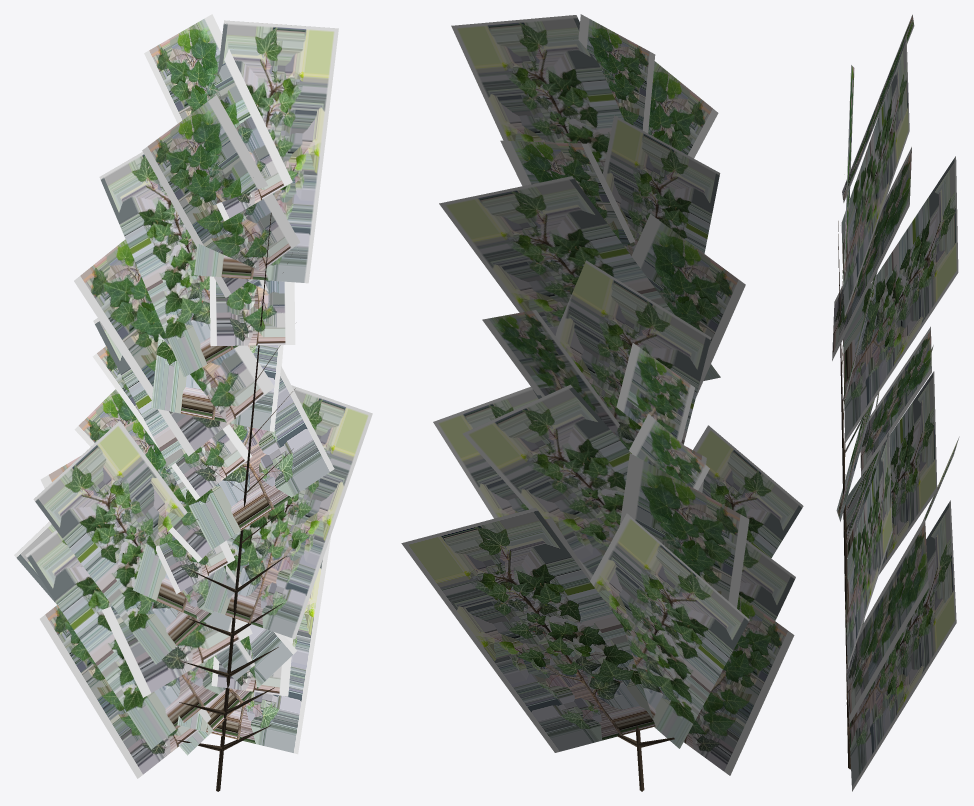
File: Ivy3.fbx
The picture shows the model from 3 angles, left to right: view 1: azimuth 30°, elevation 25°; view 2: azimuth 150°, elevation 25°; view 3: azimuth 270°, elevation 25°; orthographic projection. The views are drawn at different scales.
Parts seen in each view (by area): view 1: Ivy3; view 2: Ivy3; view 3: Ivy3.
Part boxes in pixels (x1,y1,x2,y2): Ivy3: [14, 14, 372, 791]; Ivy3: [401, 14, 803, 791]; Ivy3: [832, 14, 959, 791].
Bounding box in the file's own units: 125 × 258 × 39.61.
